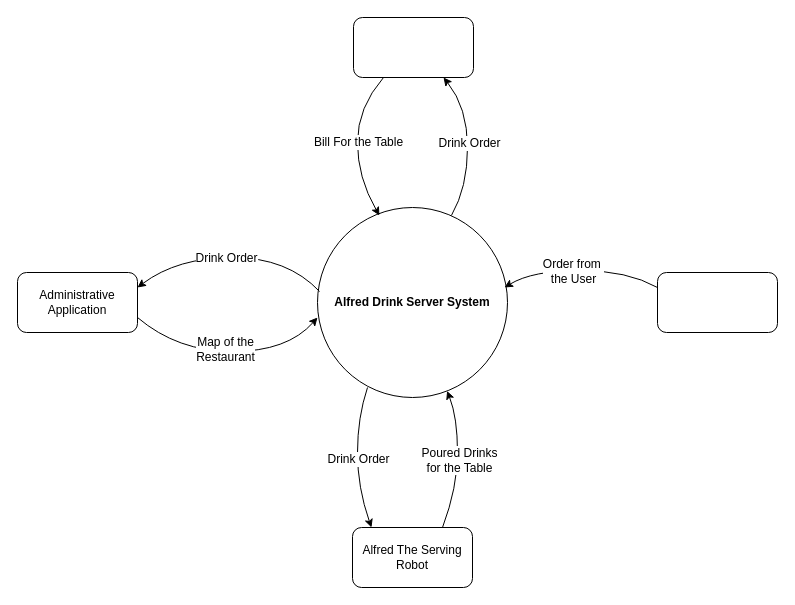
This 795x605 diagram has some shape labels left out. Here are the shapes that lost their labels. From the top down, the centre of each, then its label:
the point at 413,47: Billing System (Not In Scope)
the point at 717,302: Drink Order Application
